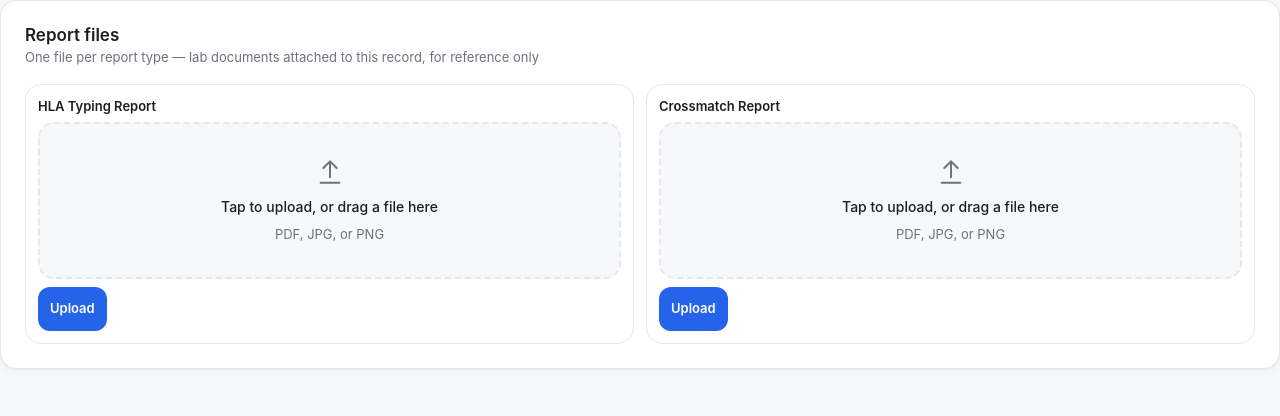
Test: ReportFilesCard › requires a file before uploading
This screenshot has width=1280, height=416.
What coordinates should you click on to do the following:
click the button "Upload" below "Crossmatch Report"
I would click on:
 (693, 309)
Its box is [659,287,728,331].
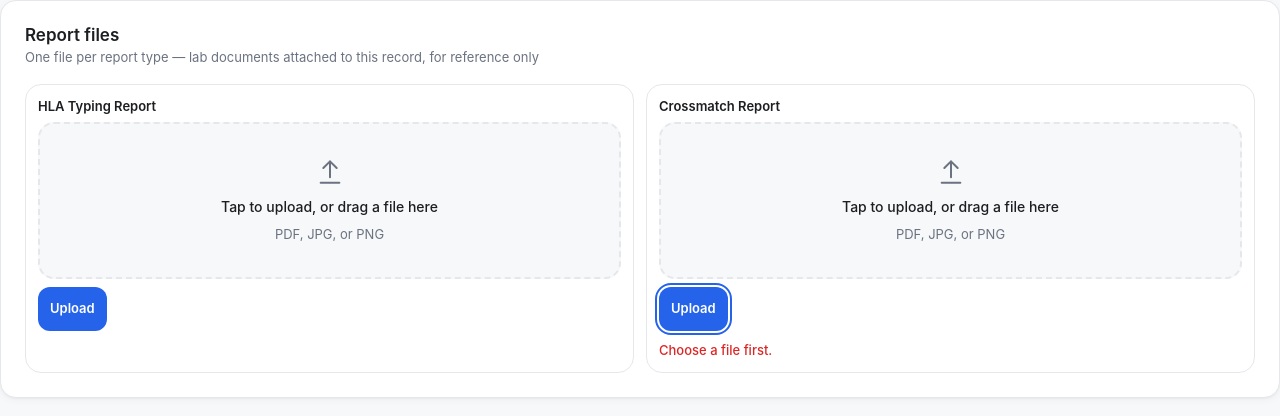
Check: the text "Choose a file first." is shown, box [659,342,772,358]
